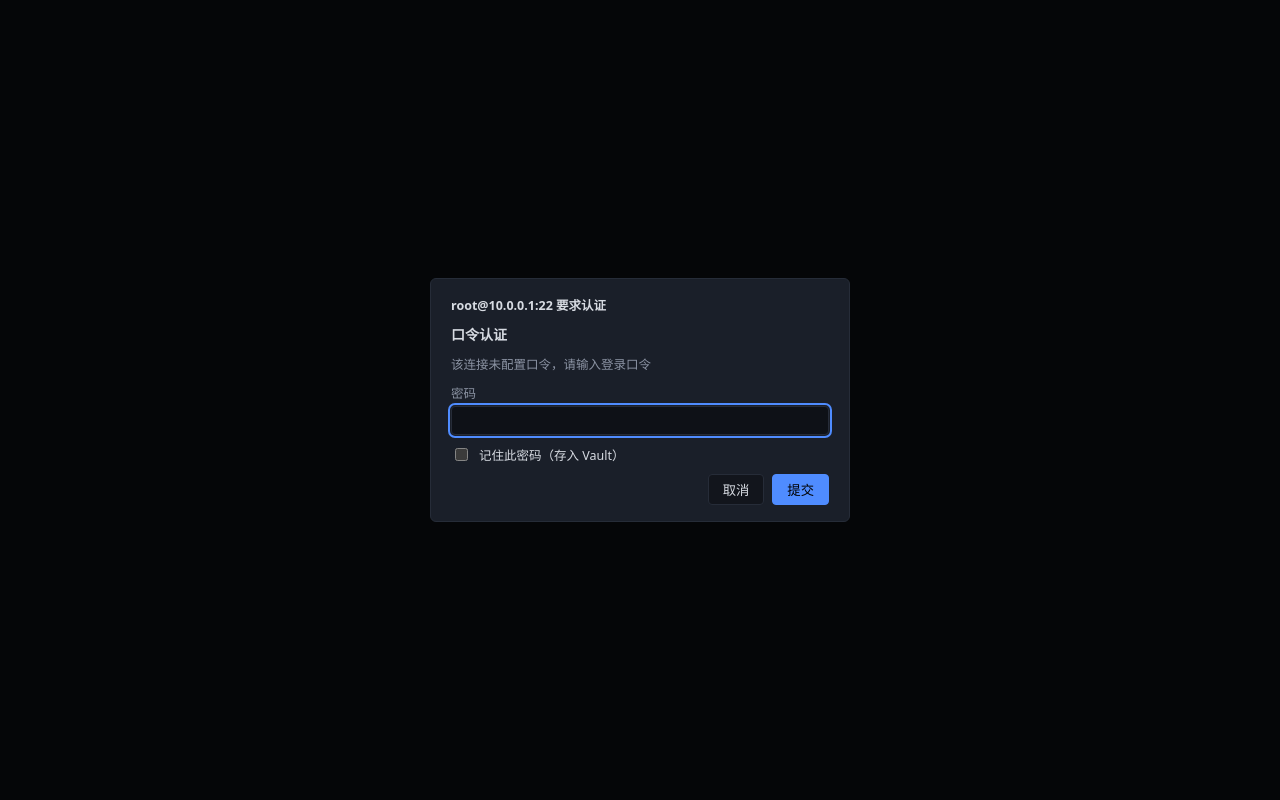
Test case: AuthPromptDialog · 连接时输口令（Task 47） › kind=password 显示「记住」勾选；kind 缺省（kbd）不显示
Expected: the checkbox with test id "auth-remember" is shown, [455, 448, 468, 461]
Click the button "取消": (736, 490) [708, 474, 764, 505]
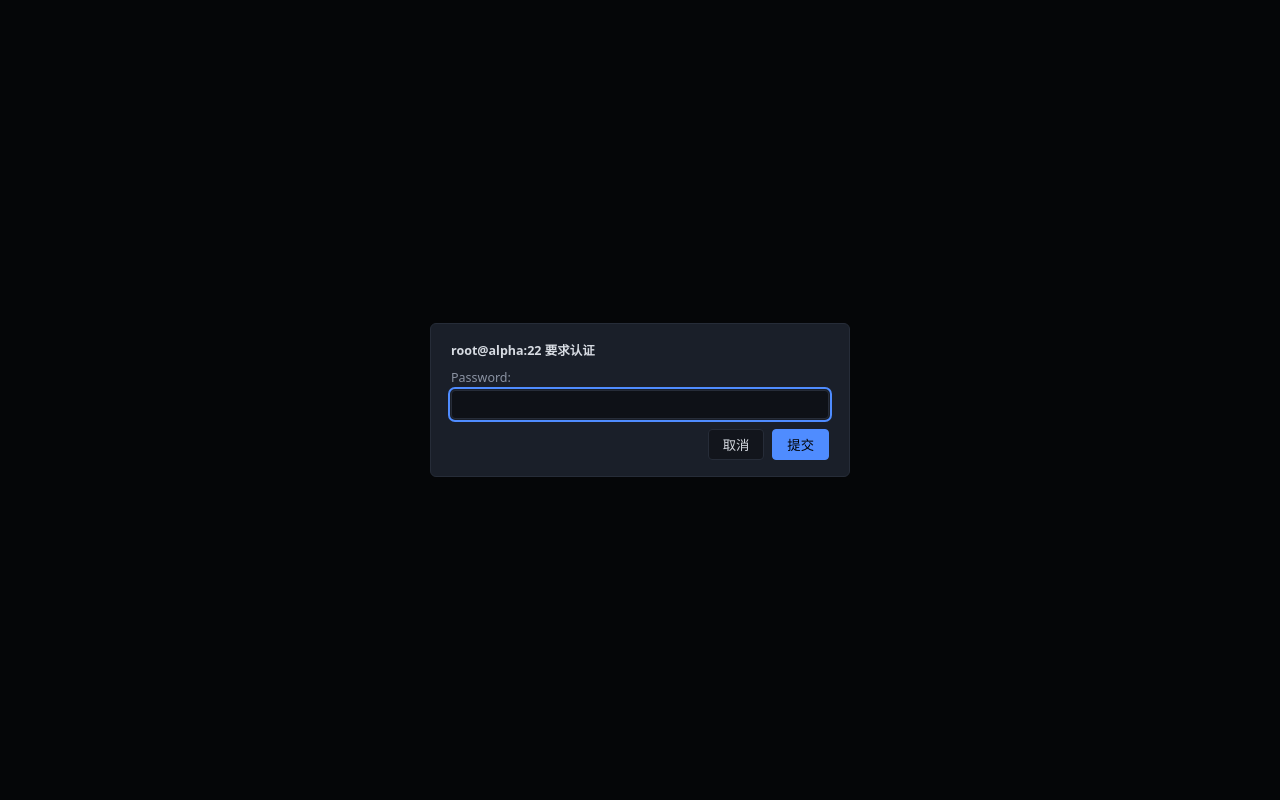
Now the checkbox with test id "auth-remember" is gone
